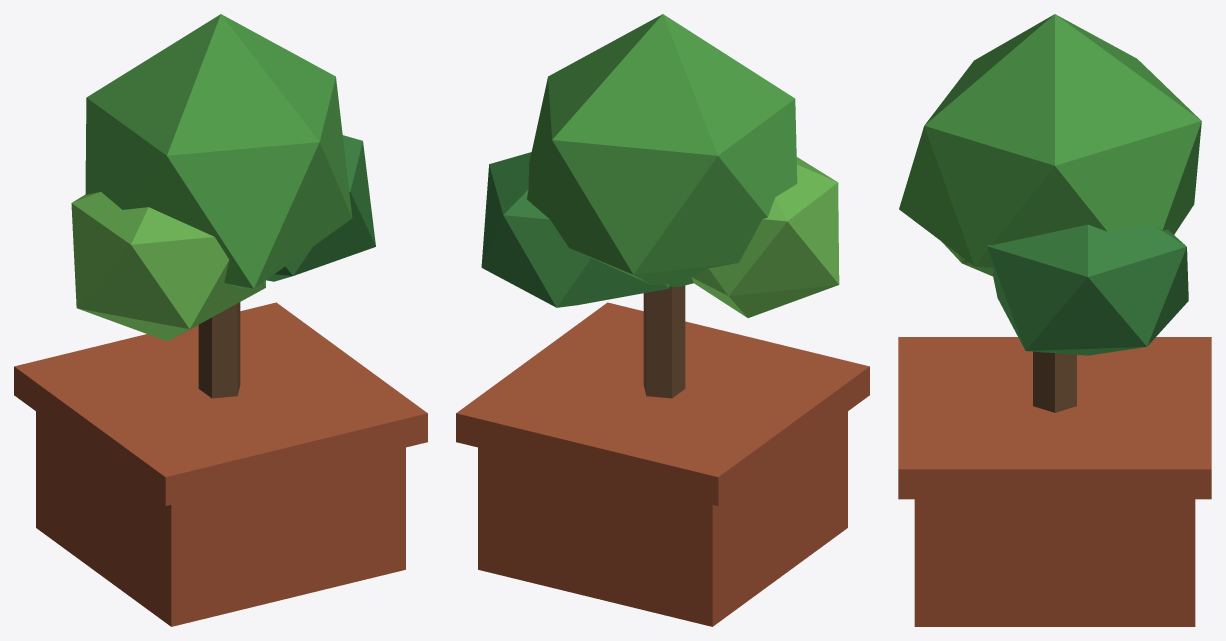
The model's file is planter_tree.glb.
3 views of the same model, side by side, from view 1: azimuth 30°, elevation 25°; view 2: azimuth 150°, elevation 25°; view 3: azimuth 270°, elevation 25° (orthographic). The views are drawn at different scales.
Parts seen in each view (by area): view 1: planter_tree; view 2: planter_tree; view 3: planter_tree.
Boxes of the visible parts, x1,y1,x2,y2 form: planter_tree: (14,14,427,626); planter_tree: (456,14,869,626); planter_tree: (898,14,1211,626).
Size of the model in its own units: 0.2305 by 0.3702 by 0.19.
